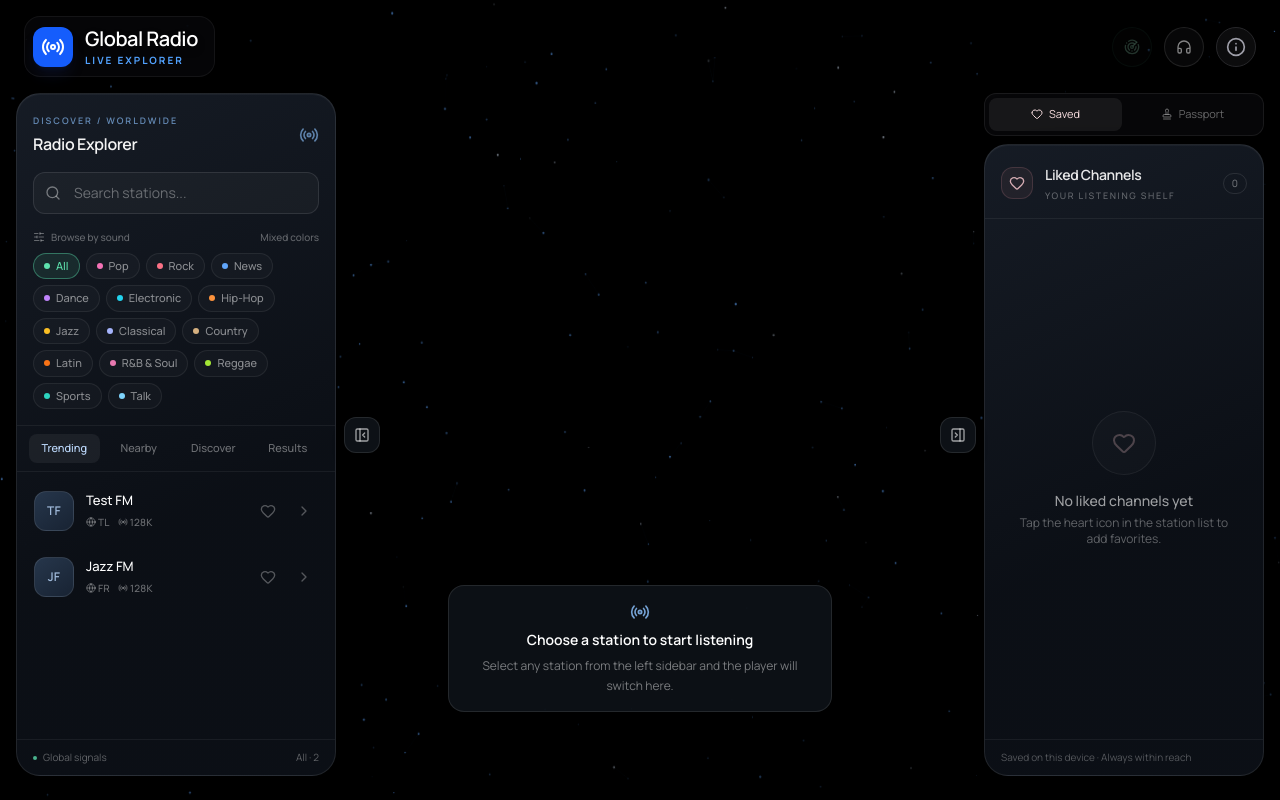
Test case: App › shows initial stations and switches the player when a station is selected
The image size is (1280, 800).
Expected: the heading "Choose a station to start listening" is shown, [527,630,753,649]
Step 1. Click the button "JF Jazz FM FR 128k" → (140, 576), box [34,556,246,596]
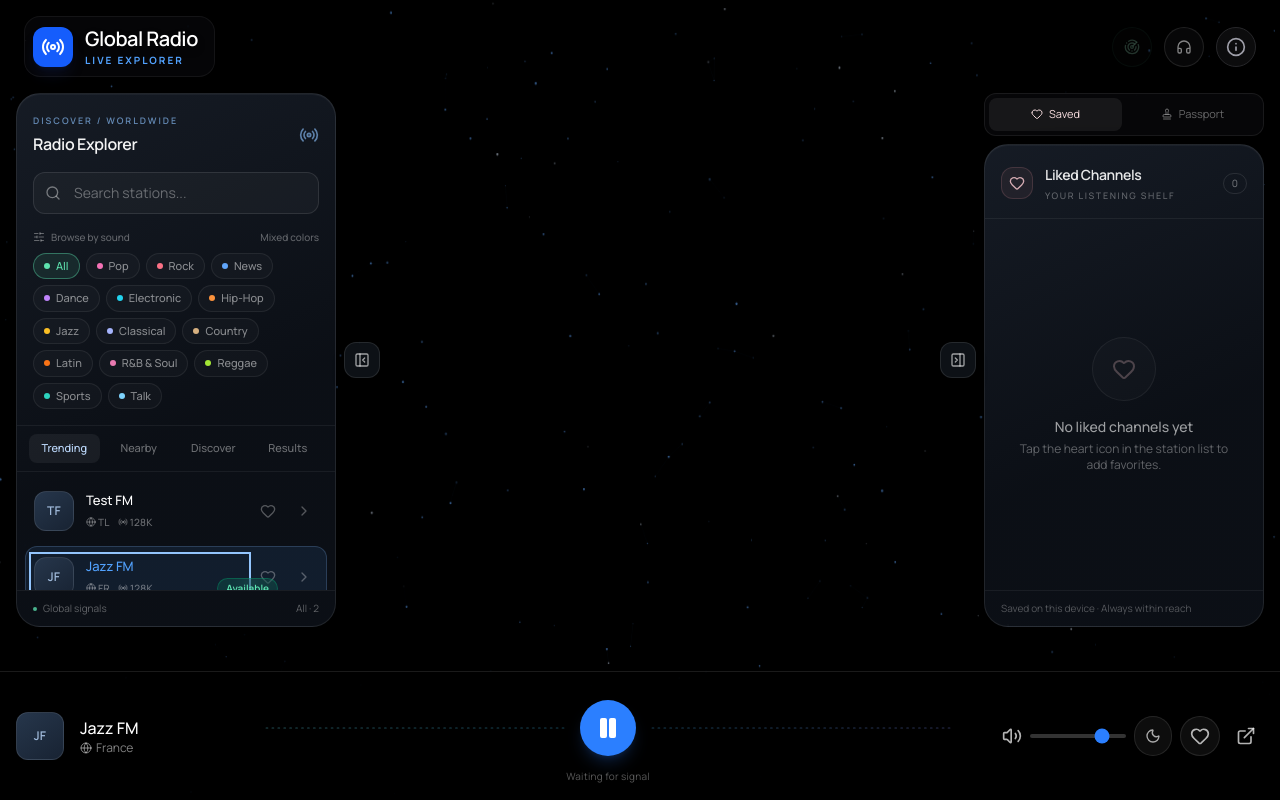
Expected: the number of headings "Jazz FM" is 2, [86,557,134,575]; [80,717,138,739]
Expected: the heading "Choose a station to start listening" is gone
Expected: the text "France" is shown, [80,739,133,756]
